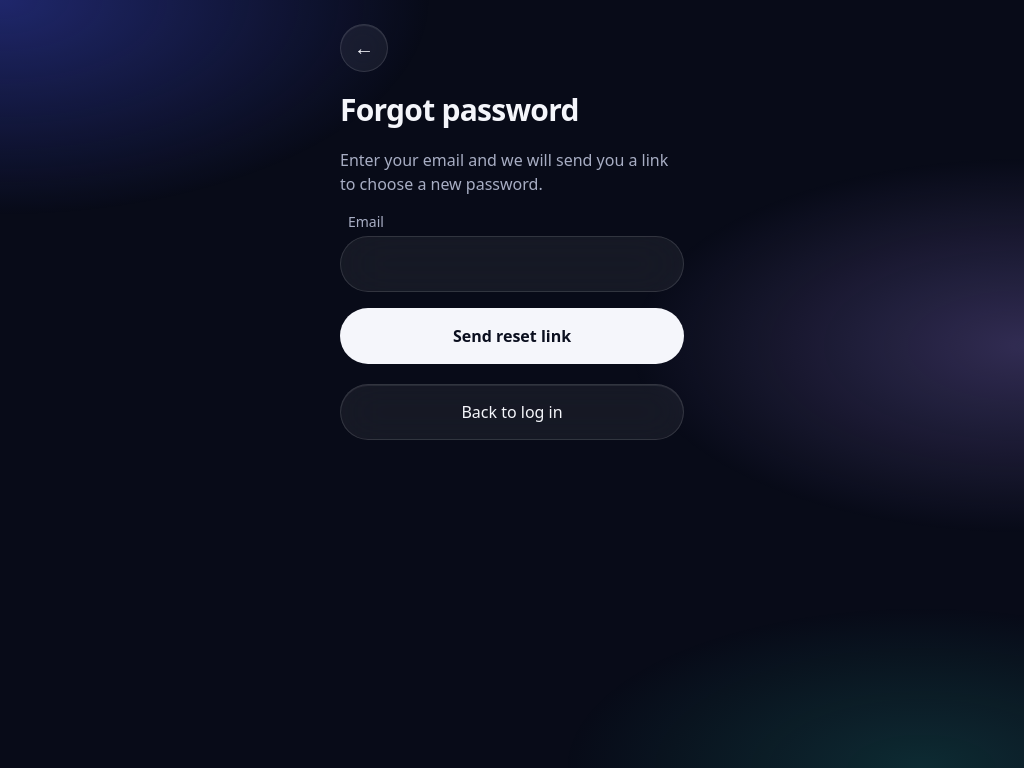
Test case: Forgot password (KAN-90) › shows an error from the API (e.g. too many requests)
The image size is (1024, 768).
In the field labelled "Email": (512, 264) x1=340 y1=236 x2=684 y2=292, type "chee@example.com"
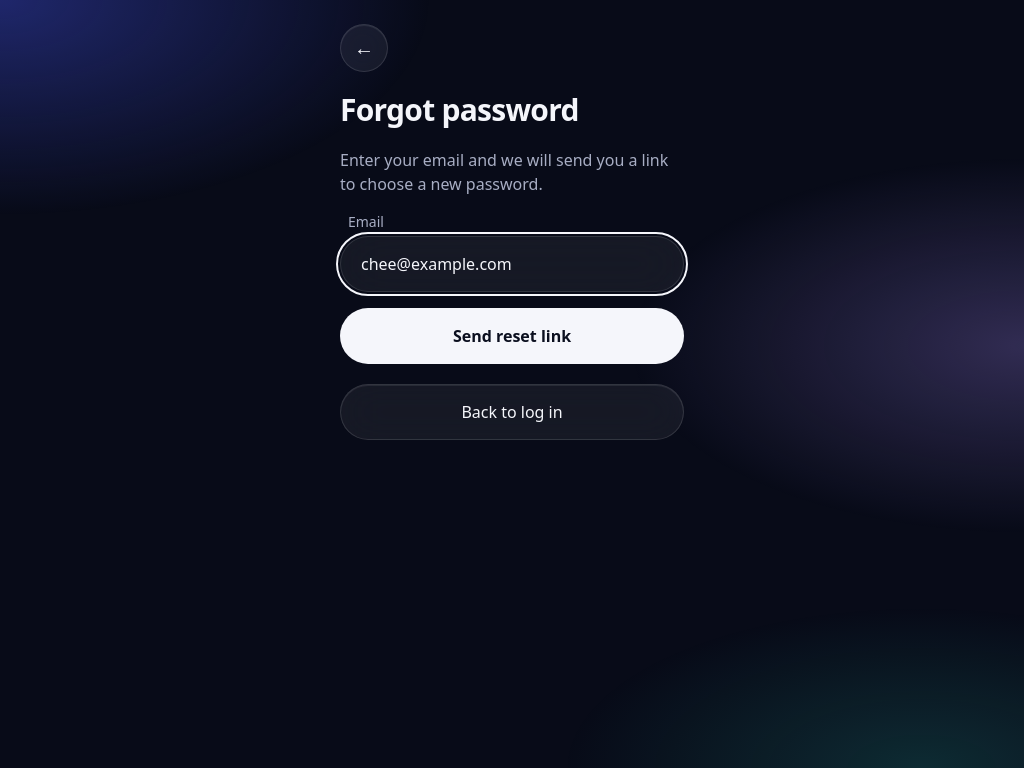
Click the button "Send reset link": (512, 336) x1=340 y1=308 x2=684 y2=364
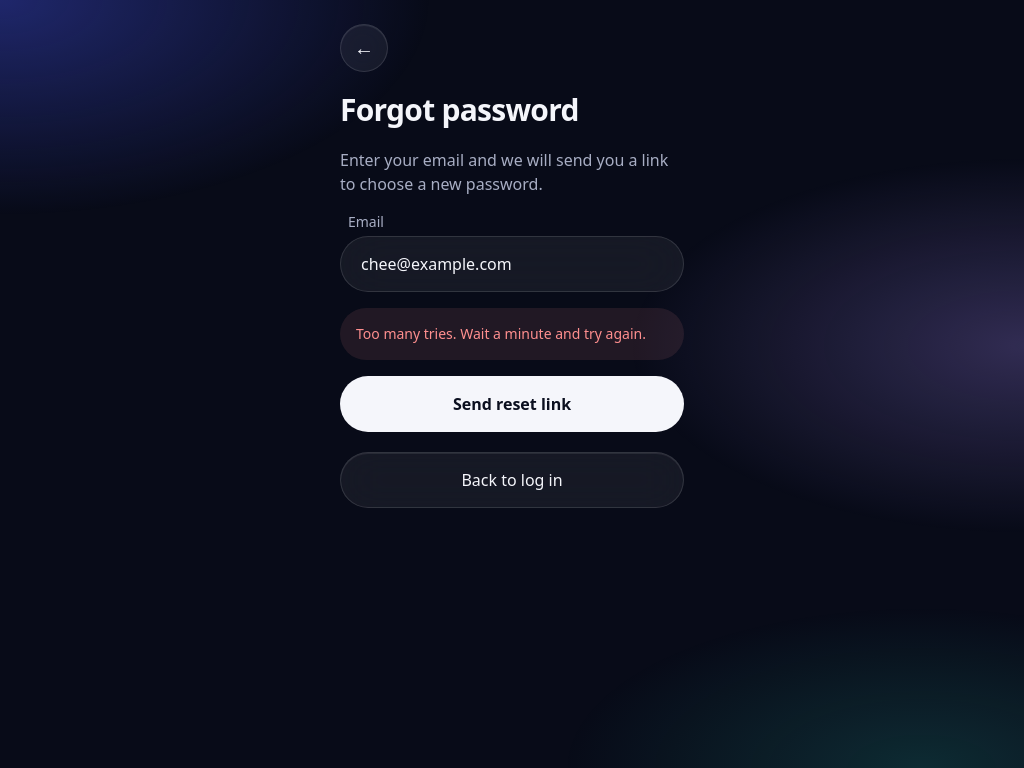
Expected: the message shows "Too many tries", x1=356 y1=324 x2=646 y2=343
